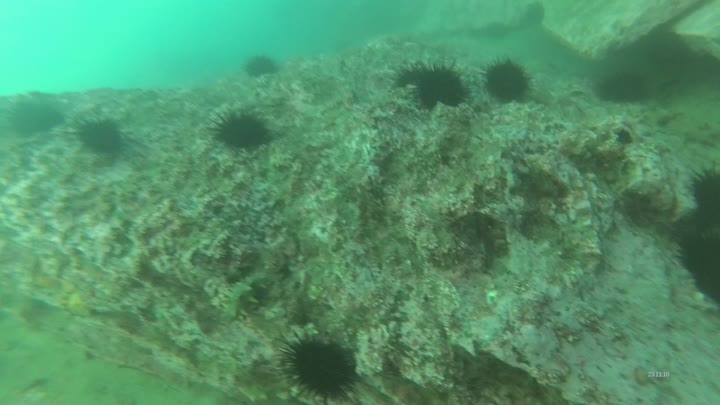echinus: (276, 329, 364, 405), (205, 110, 280, 157), (415, 61, 473, 116), (480, 56, 537, 109), (74, 113, 133, 161), (595, 70, 655, 111), (5, 100, 67, 139), (389, 63, 433, 106), (688, 166, 720, 223), (690, 254, 720, 308), (674, 235, 709, 275), (242, 54, 283, 81)
